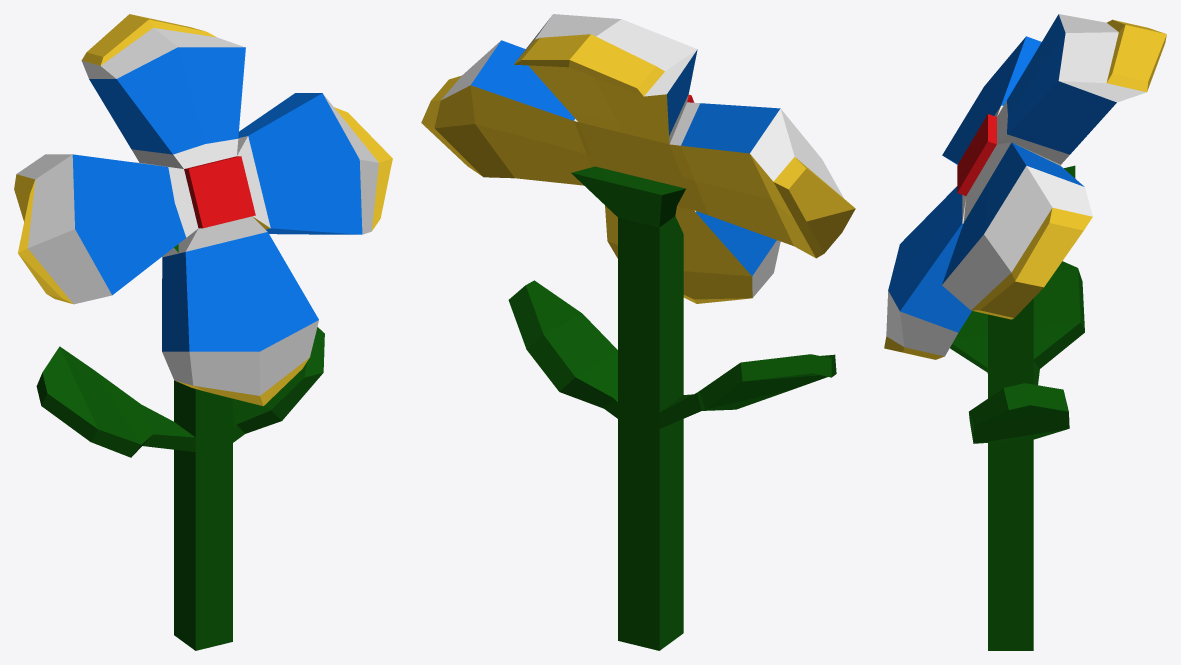
File: TarczaKwiat.fbx
3 views of the same model, side by side, from view 1: azimuth 30°, elevation 25°; view 2: azimuth 150°, elevation 25°; view 3: azimuth 270°, elevation 25° (orthographic). The views are drawn at different scales.
Visible parts, largest first — view 1: Cube.012, Buff.002; view 2: Cube.012, Buff.002; view 3: Cube.012, Buff.002.
Part boxes in pixels (x1,y1,x2,y2): Cube.012: (14, 14, 392, 406); Buff.002: (36, 244, 324, 650); Cube.012: (421, 14, 855, 303); Buff.002: (508, 166, 836, 650); Cube.012: (884, 14, 1166, 359); Buff.002: (950, 165, 1084, 650).
Size of the model in its own units: 46.32 by 68.23 by 28.38.
